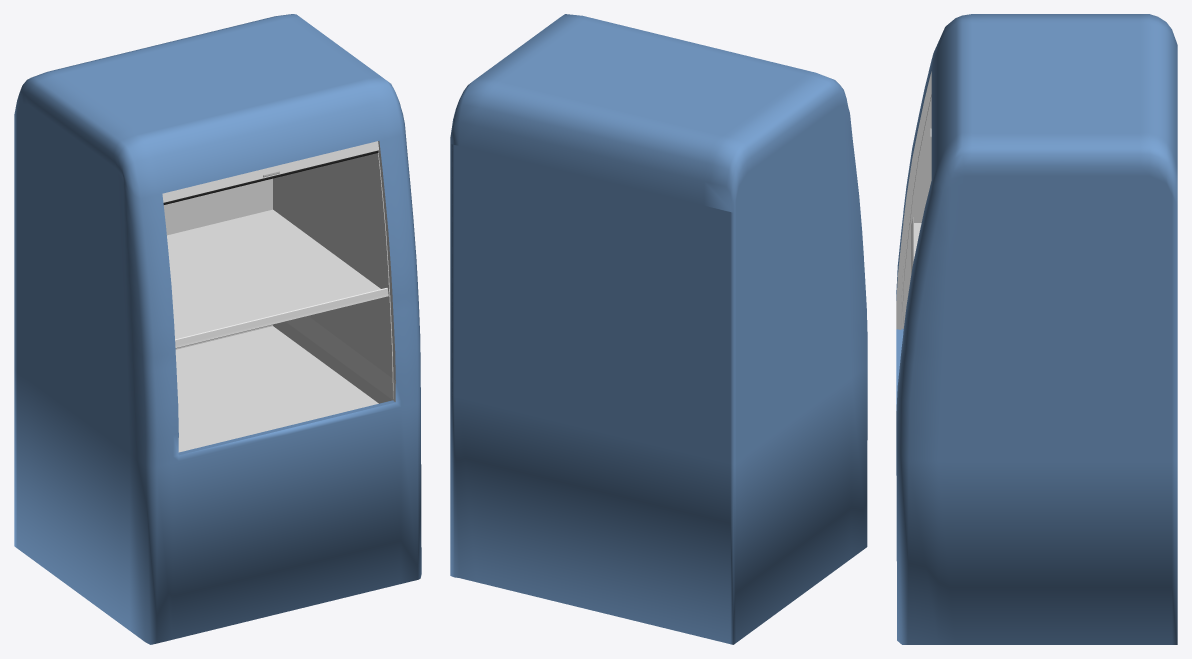
File: milk_shelf.fbx
3 renders of one model, left to right at view 1: azimuth 30°, elevation 25°; view 2: azimuth 150°, elevation 25°; view 3: azimuth 270°, elevation 25°, orthographic. The views are drawn at different scales.
Visible parts, largest first — view 1: MainStructure, stainless_steel1, stainless_steel2, stainless_steel3, Ruber; view 2: MainStructure; view 3: MainStructure, stainless_steel1.
Part boxes in pixels (left/top/right/bottom): MainStructure: left=14, top=14, right=421, bottom=644; stainless_steel1: left=163, top=141, right=395, bottom=452; stainless_steel2: left=167, top=209, right=388, bottom=348; stainless_steel3: left=162, top=141, right=378, bottom=202; Ruber: left=163, top=150, right=378, bottom=204; MainStructure: left=450, top=14, right=867, bottom=644; MainStructure: left=896, top=14, right=1177, bottom=644; stainless_steel1: left=896, top=71, right=931, bottom=329.
Size of the model in its own units: 100 by 166 by 84.81.
